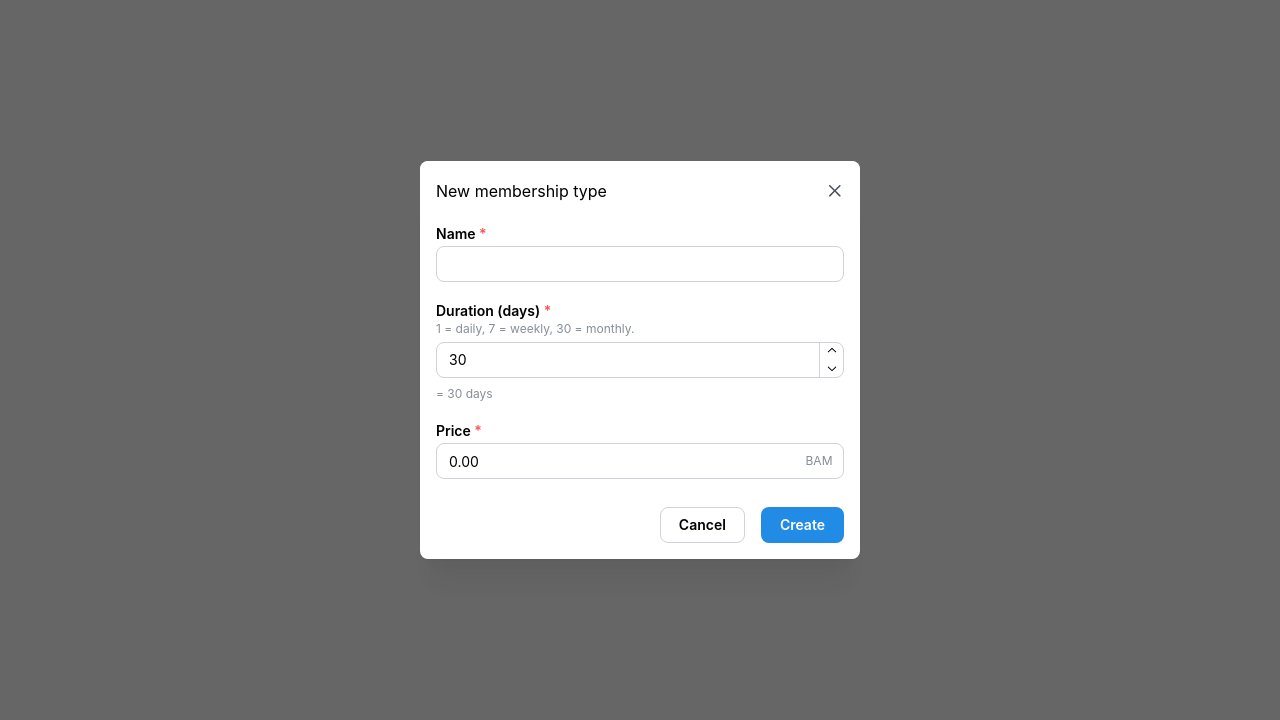
it: MembershipTypeFormModal › shows the duration in words while typing
Replace the text in the field labelled "Duration (days) *" with "1" at (640, 360), box [436,342,844,378]
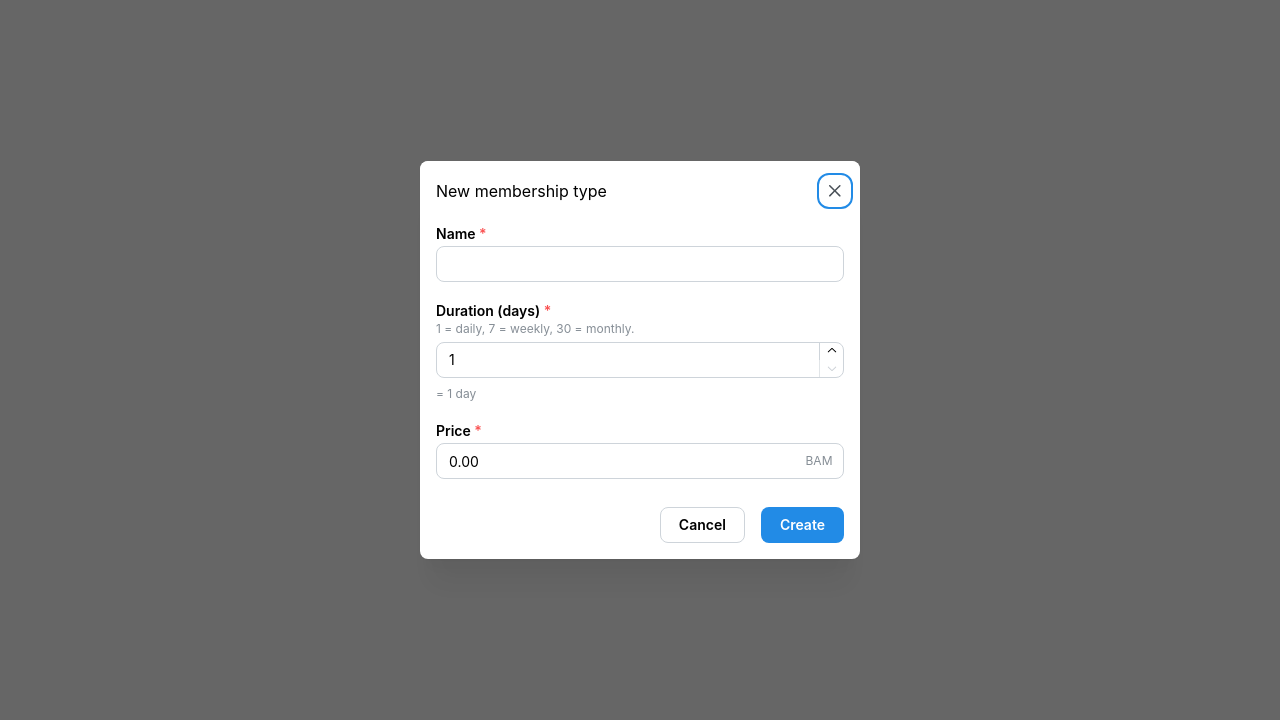
expect the text "= 1 day" is shown: met, box [436,386,476,401]
